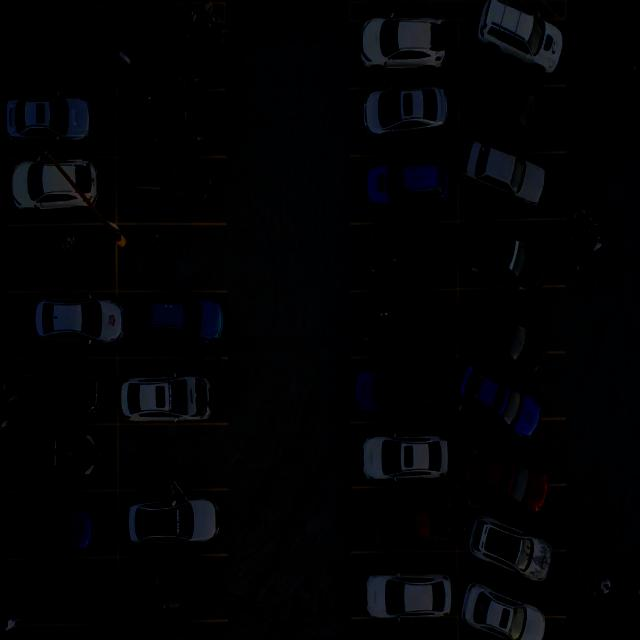empty: (10, 20, 119, 94), (115, 224, 233, 291), (4, 556, 120, 624), (117, 424, 230, 492), (5, 224, 116, 292)
occupied: (345, 9, 457, 89), (456, 213, 560, 294), (459, 140, 563, 220), (459, 493, 563, 571), (345, 82, 456, 155), (345, 221, 458, 292), (2, 490, 119, 558), (344, 287, 457, 357), (345, 152, 456, 223), (456, 345, 558, 422), (345, 353, 457, 423), (118, 18, 230, 88), (117, 356, 227, 426), (462, 5, 558, 85), (6, 289, 117, 358), (5, 356, 117, 424), (3, 425, 117, 491), (118, 289, 230, 356), (7, 88, 116, 156), (347, 420, 456, 487), (117, 88, 225, 155), (118, 554, 224, 622), (117, 155, 226, 221), (118, 489, 227, 555), (460, 85, 566, 152), (350, 486, 457, 552), (458, 417, 561, 484), (352, 553, 456, 619), (3, 158, 106, 222), (458, 289, 564, 349), (459, 580, 560, 640)
